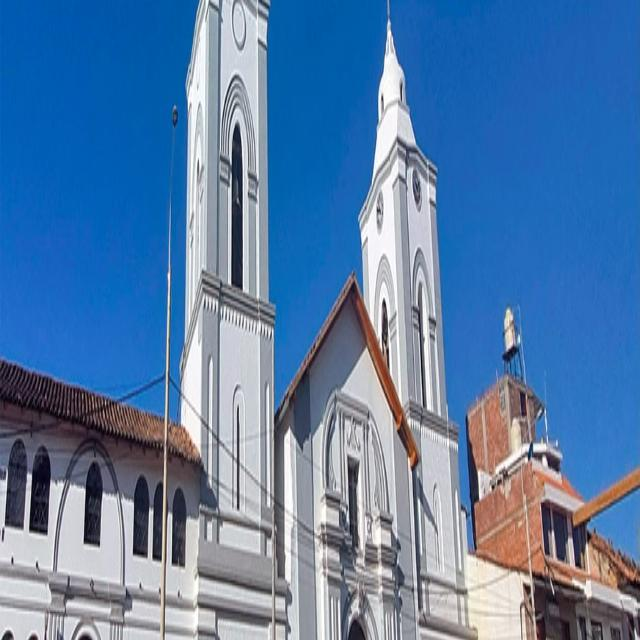CAMPANARIO: (180, 36, 272, 344), (361, 159, 454, 455)
colonial-architecture-: (0, 0, 477, 639)
